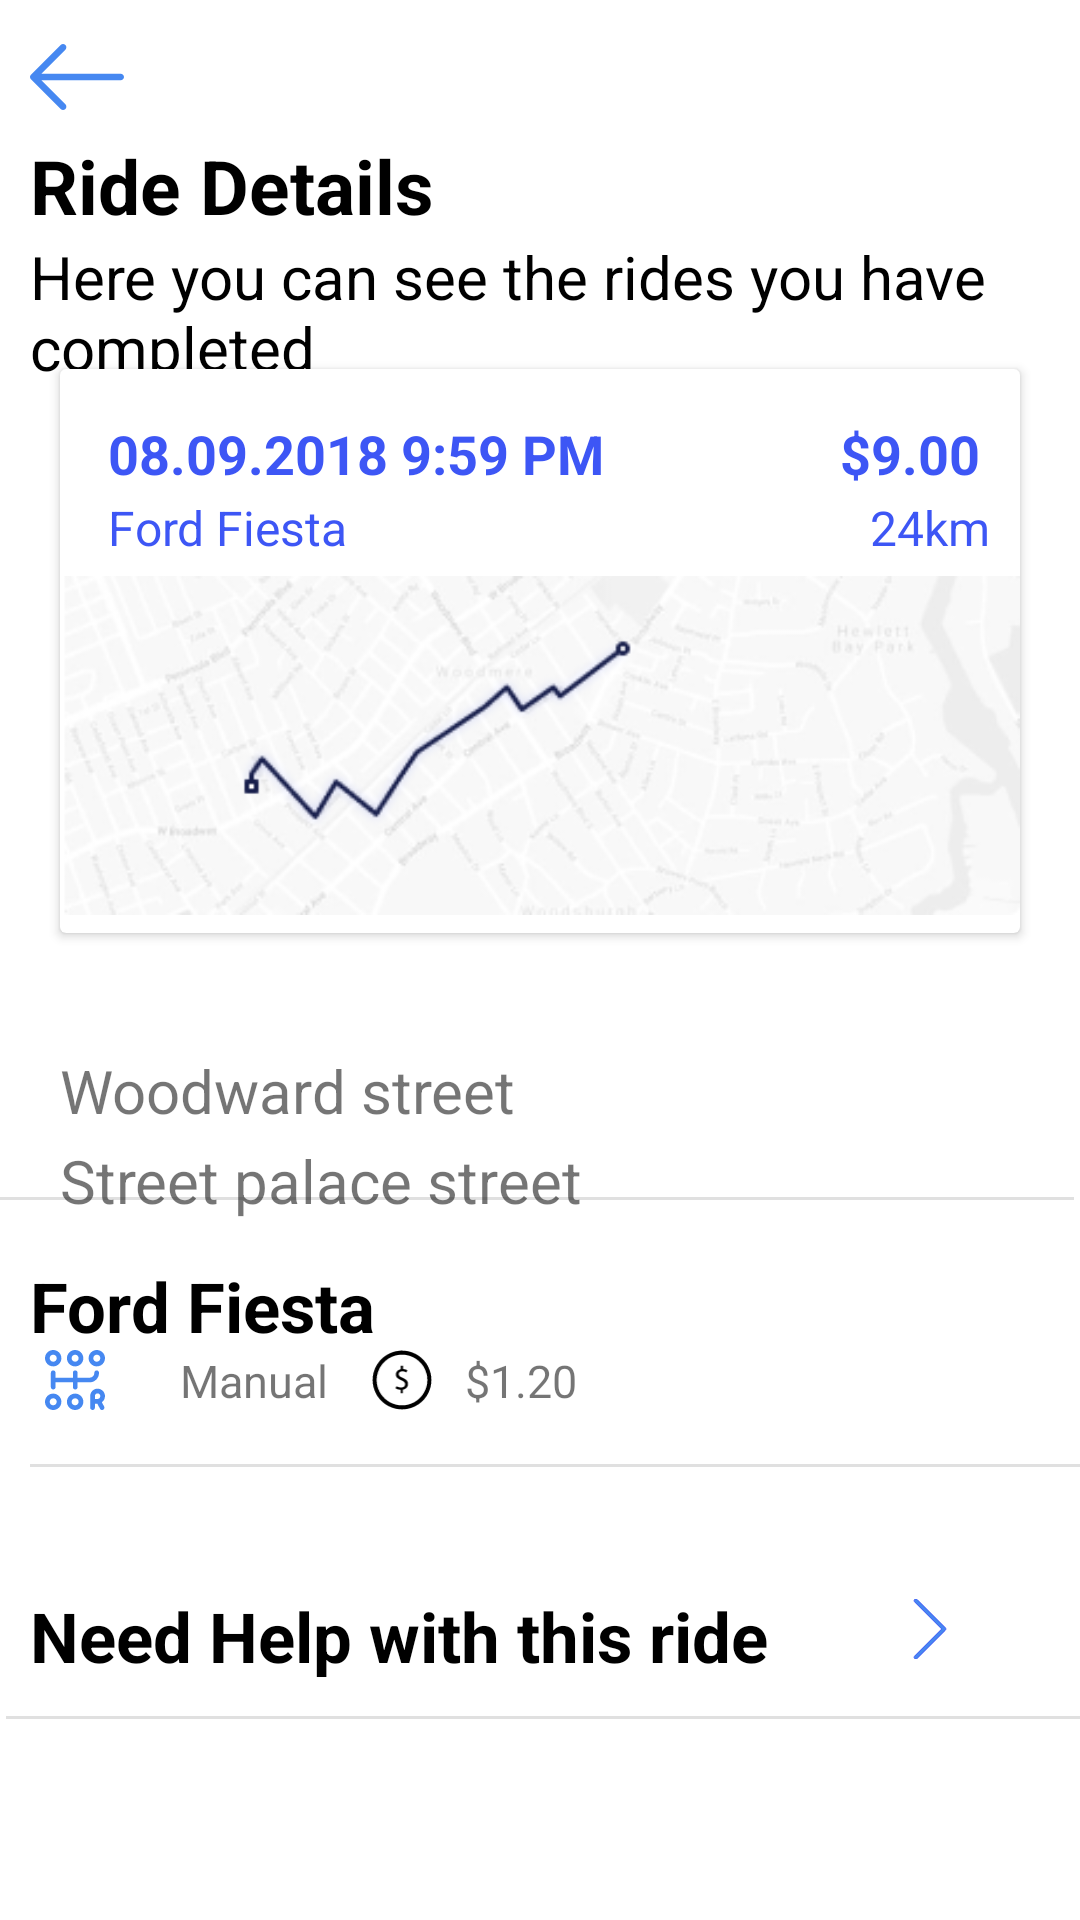

Where to tap for icons on this 1080w x 1920h app screen, as point (x, y):
currency: point (402, 1380)
left arrow: point (77, 77)
next: point (930, 1629)
